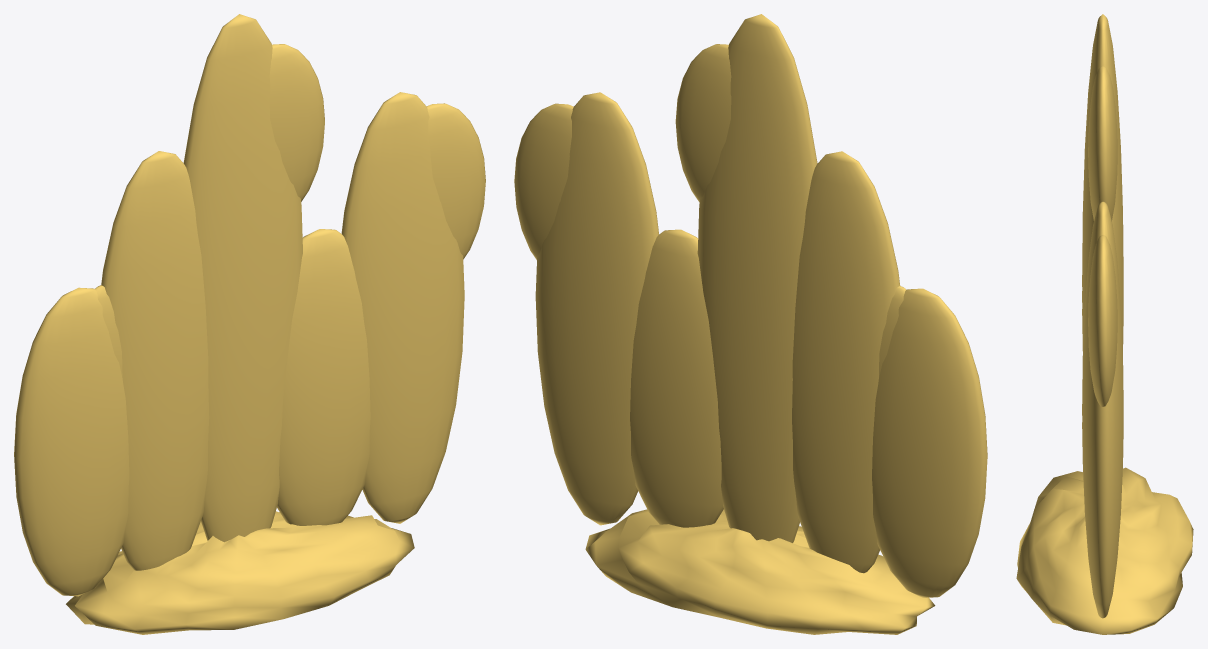
File: underwater-reef-worlds-fire-coral-4fced0c1__6998.glb
3 views of the same model, side by side, from view 1: azimuth 30°, elevation 25°; view 2: azimuth 150°, elevation 25°; view 3: azimuth 270°, elevation 25° (orthographic). The views are drawn at different scales.
Parts seen in each view (by area): view 1: fire-coral; view 2: fire-coral; view 3: fire-coral.
Boxes of the visible parts, left/top/right/bottom form: fire-coral: left=14, top=14, right=485, bottom=634; fire-coral: left=514, top=14, right=987, bottom=634; fire-coral: left=1016, top=14, right=1193, bottom=634.
Bounding box in the file's own units: 0.88 × 1.02 × 0.2975.
